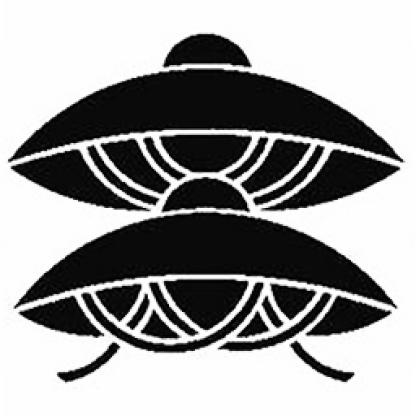kamon: (3, 31, 403, 387)
